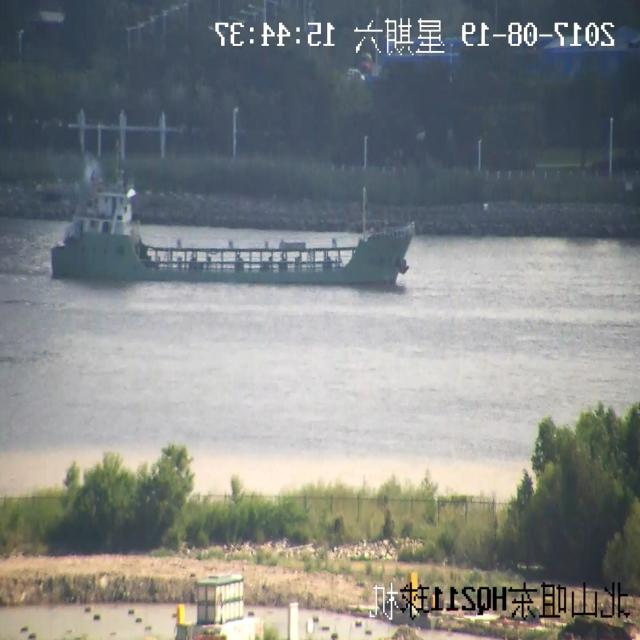houseboat: (48, 136, 425, 294)
